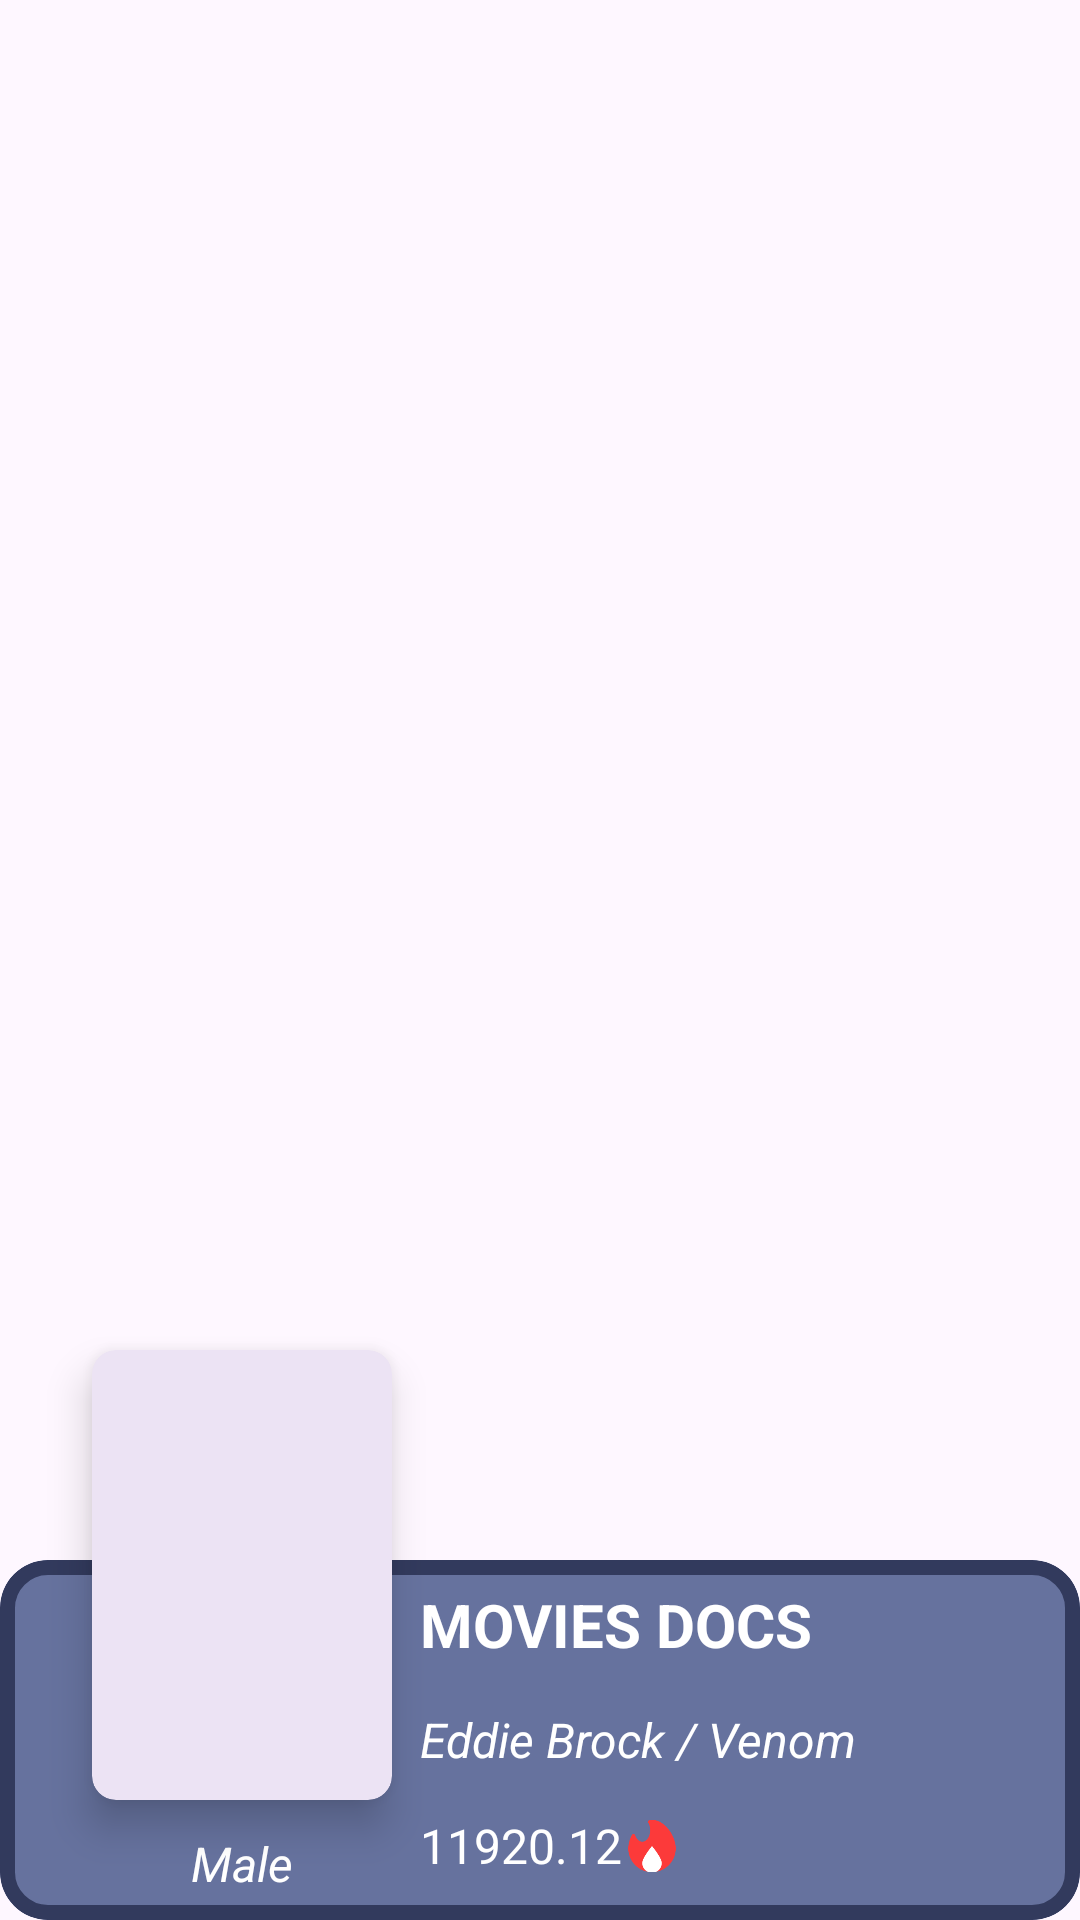

Named icons in this screenshot (1080*1920) and their bounding boxes, (x1, y1, x2, y2):
popularity: (628, 1820, 676, 1872)
